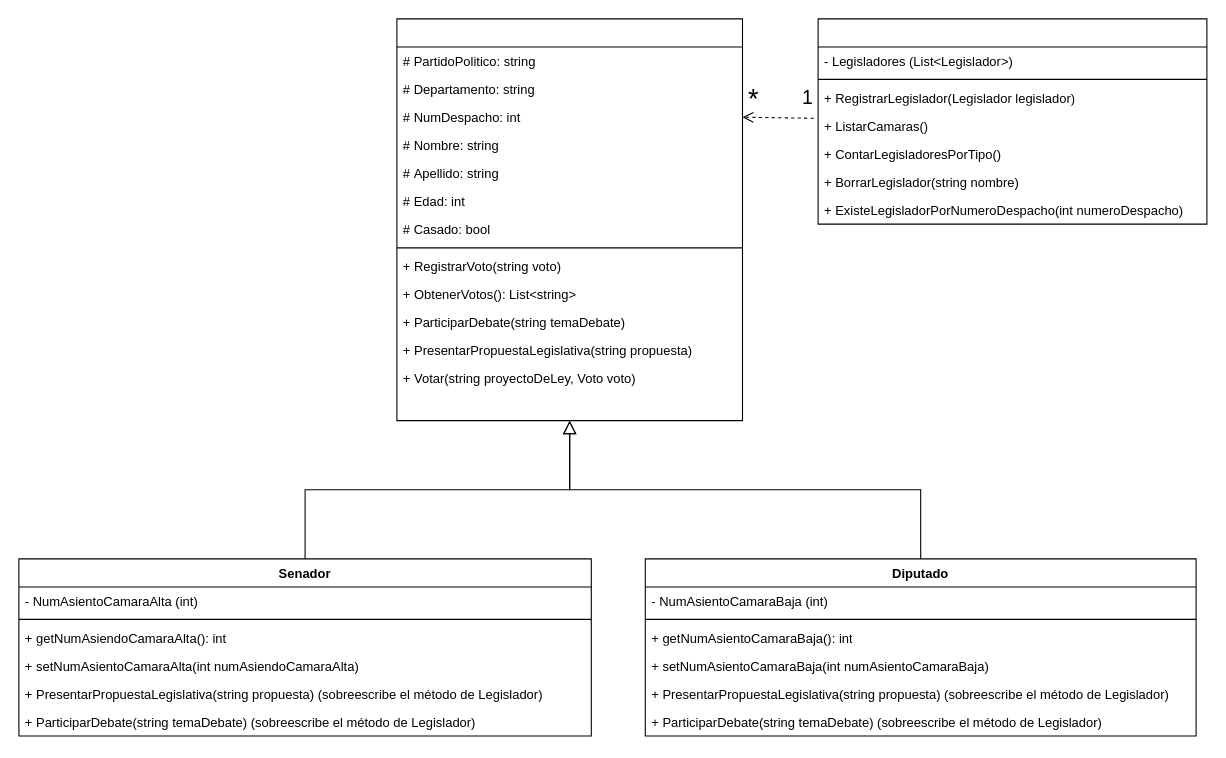
Image size: 1226x758. Some labels were removed from this diagram. The box of each missing label's shape, as (x1, y1, x2, y2) in pixels:
Legislador: (396, 18, 742, 421)
Parlamento: (817, 18, 1207, 224)
